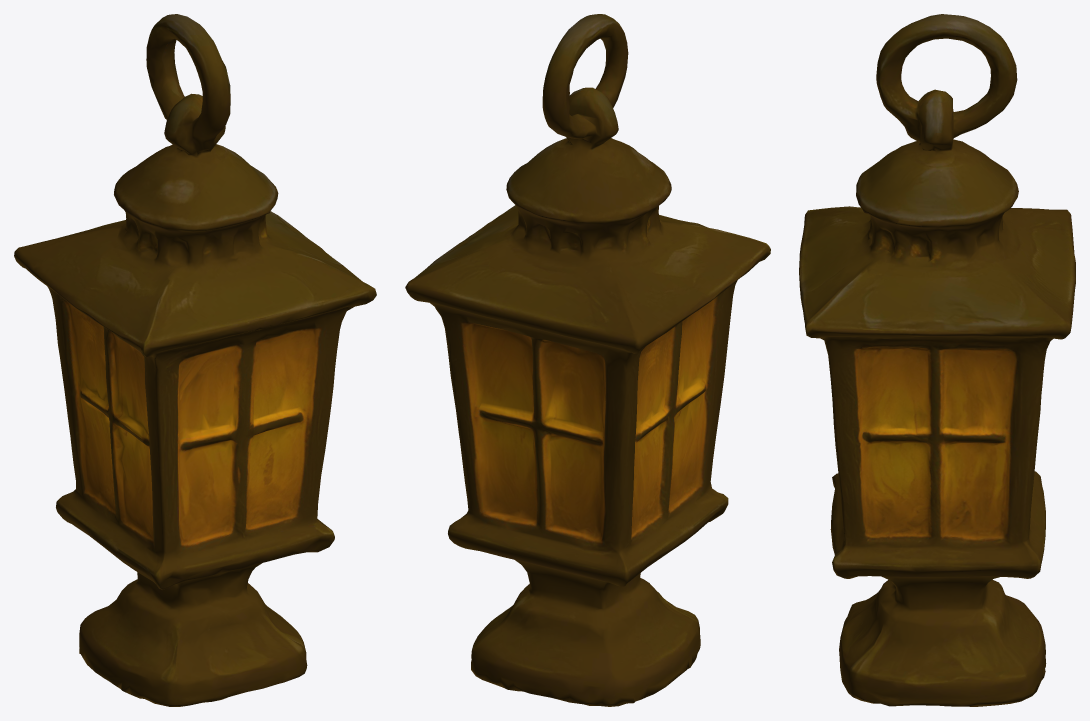
The model's file is antique+lantern.fbx.
The picture shows the model from 3 angles, left to right: view 1: azimuth 30°, elevation 25°; view 2: azimuth 150°, elevation 25°; view 3: azimuth 270°, elevation 25°; orthographic projection.
Parts seen in each view (by area): view 1: tripo_node_280f637c; view 2: tripo_node_280f637c; view 3: tripo_node_280f637c.
Part boxes in pixels (x1,y1,x2,y2): tripo_node_280f637c: (14, 14, 376, 706); tripo_node_280f637c: (405, 14, 770, 706); tripo_node_280f637c: (799, 14, 1075, 706).
Size of the model in its own units: 0.3999 by 1 by 0.3879.
1 material, 1 textured.
